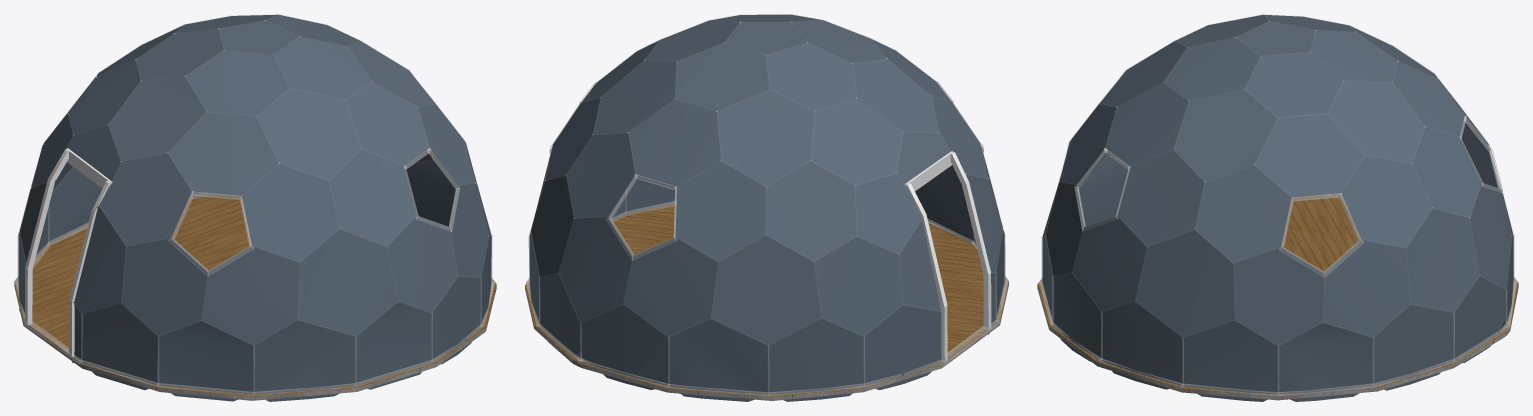
The picture shows the model from 3 angles, left to right: view 1: azimuth 30°, elevation 25°; view 2: azimuth 150°, elevation 25°; view 3: azimuth 270°, elevation 25°; orthographic projection.
Size of the model in its own units: 515 by 317 by 521.
6 materials, 2 textured.
